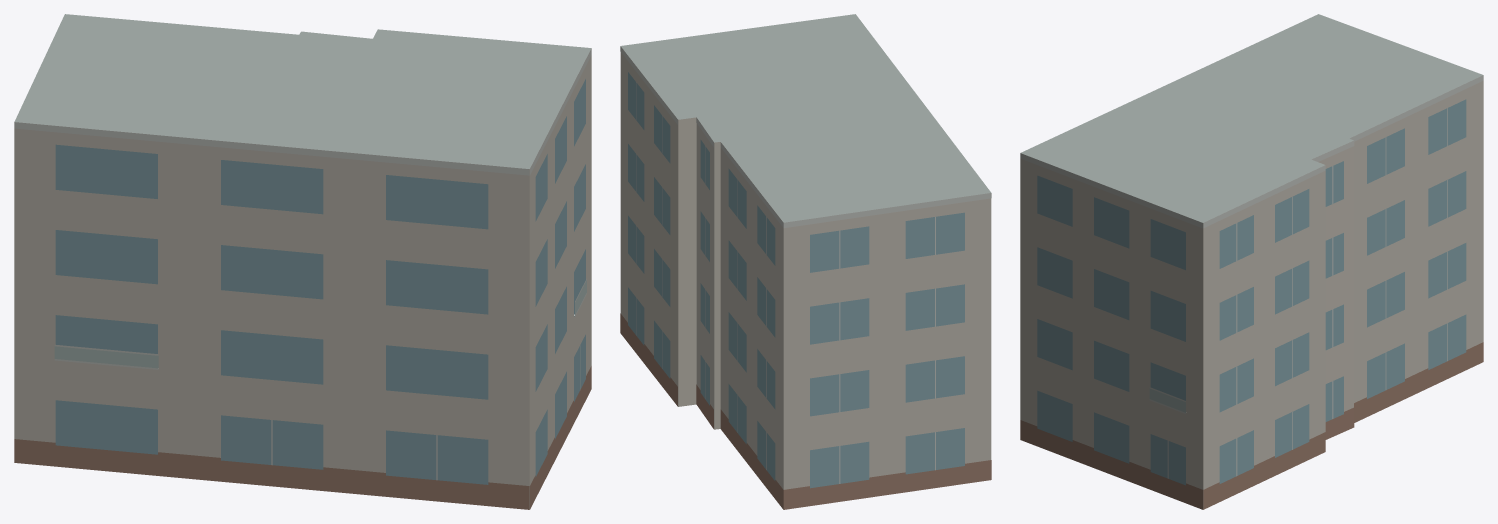
Rendered from survey-upis-32622484.glb.
The picture shows the model from 3 angles, left to right: view 1: azimuth 30°, elevation 25°; view 2: azimuth 150°, elevation 25°; view 3: azimuth 270°, elevation 25°; orthographic projection. The views are drawn at different scales.
Visible parts, largest first — view 1: survey-upis-32622484.tmp; view 2: survey-upis-32622484.tmp; view 3: survey-upis-32622484.tmp.
Boxes of the visible parts, box(x1,y1,x2,y2) form: survey-upis-32622484.tmp: box(14, 14, 591, 509); survey-upis-32622484.tmp: box(620, 14, 991, 509); survey-upis-32622484.tmp: box(1020, 14, 1483, 509).
Bounding box in the file's own units: 19.93 × 12.75 × 18.67.
